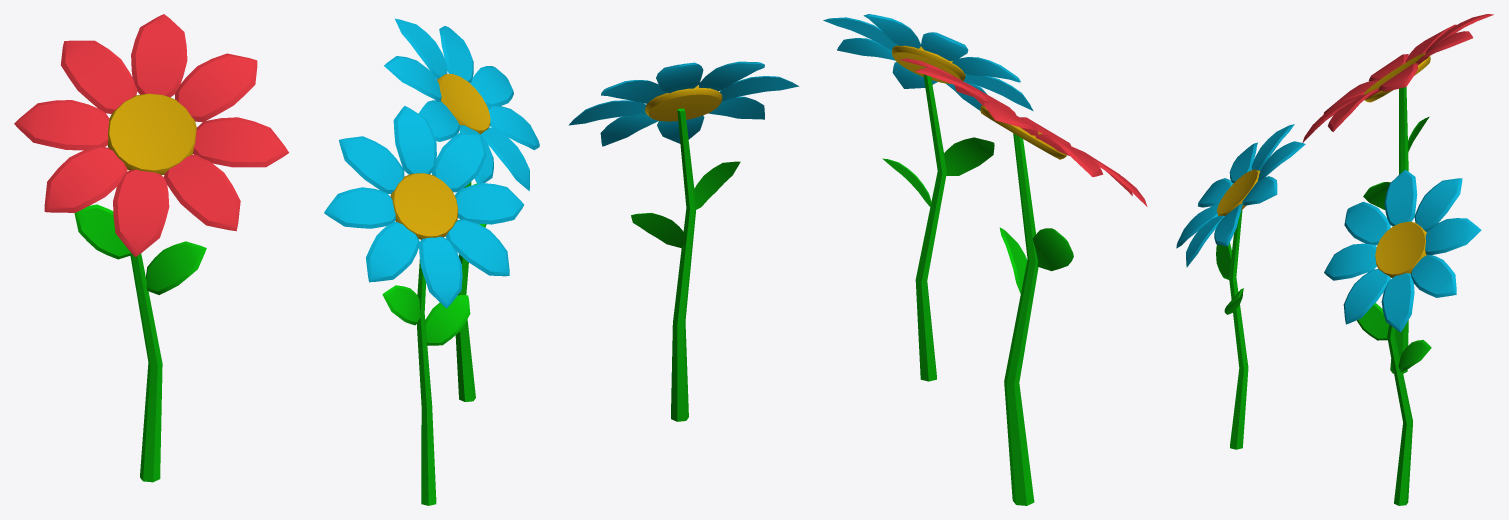
The model's file is Flower1.fbx.
3 renders of one model, left to right at view 1: azimuth 30°, elevation 25°; view 2: azimuth 150°, elevation 25°; view 3: azimuth 270°, elevation 25°, orthographic. The views are drawn at different scales.
Parts seen in each view (by area): view 1: pPlane53; view 2: pPlane53; view 3: pPlane53.
Boxes of the visible parts, <box> form: pPlane53: <box>14,14,539,505</box>; pPlane53: <box>568,14,1147,505</box>; pPlane53: <box>1176,14,1493,505</box>.
Bounding box in the file's own units: 16.55 × 13.2 × 10.66.
